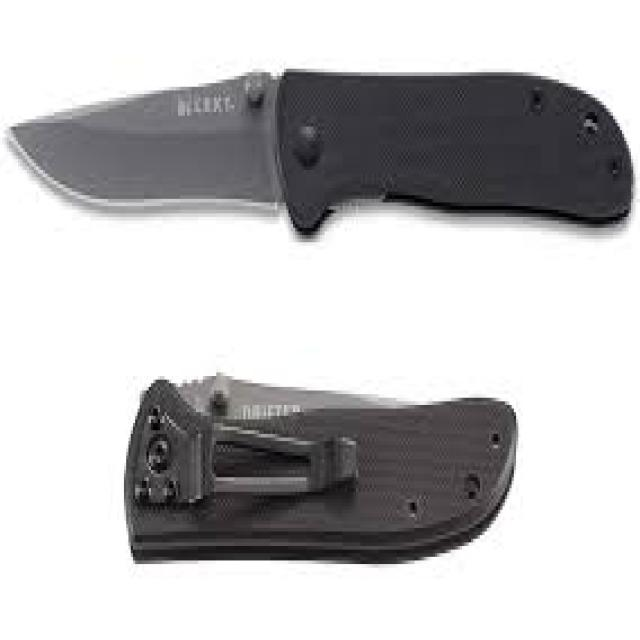knives: (2, 62, 636, 238), (120, 365, 520, 571)
